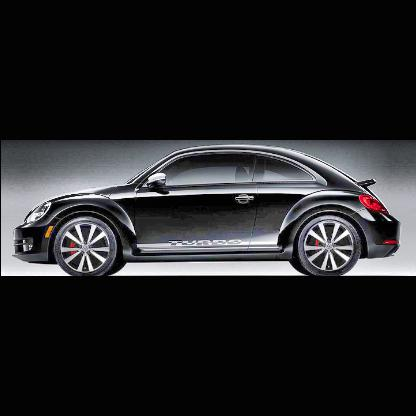Volkswagen Beetle Hatchback 2012: (15, 145, 404, 276)
